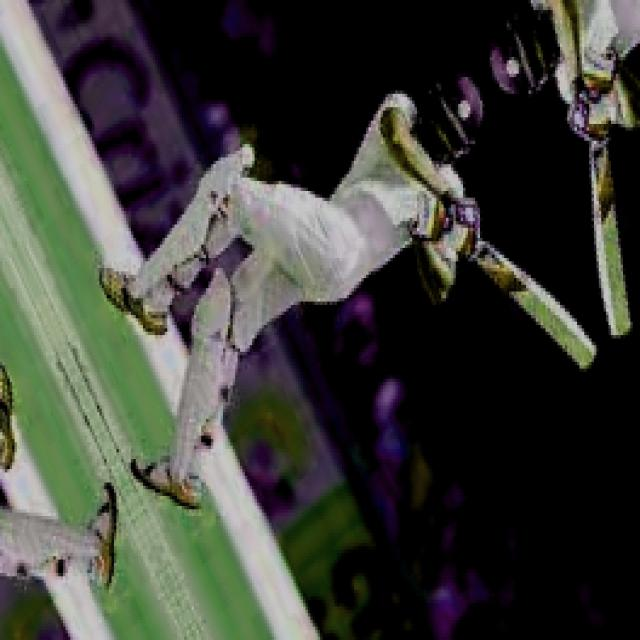toe: (571, 334, 596, 372)
